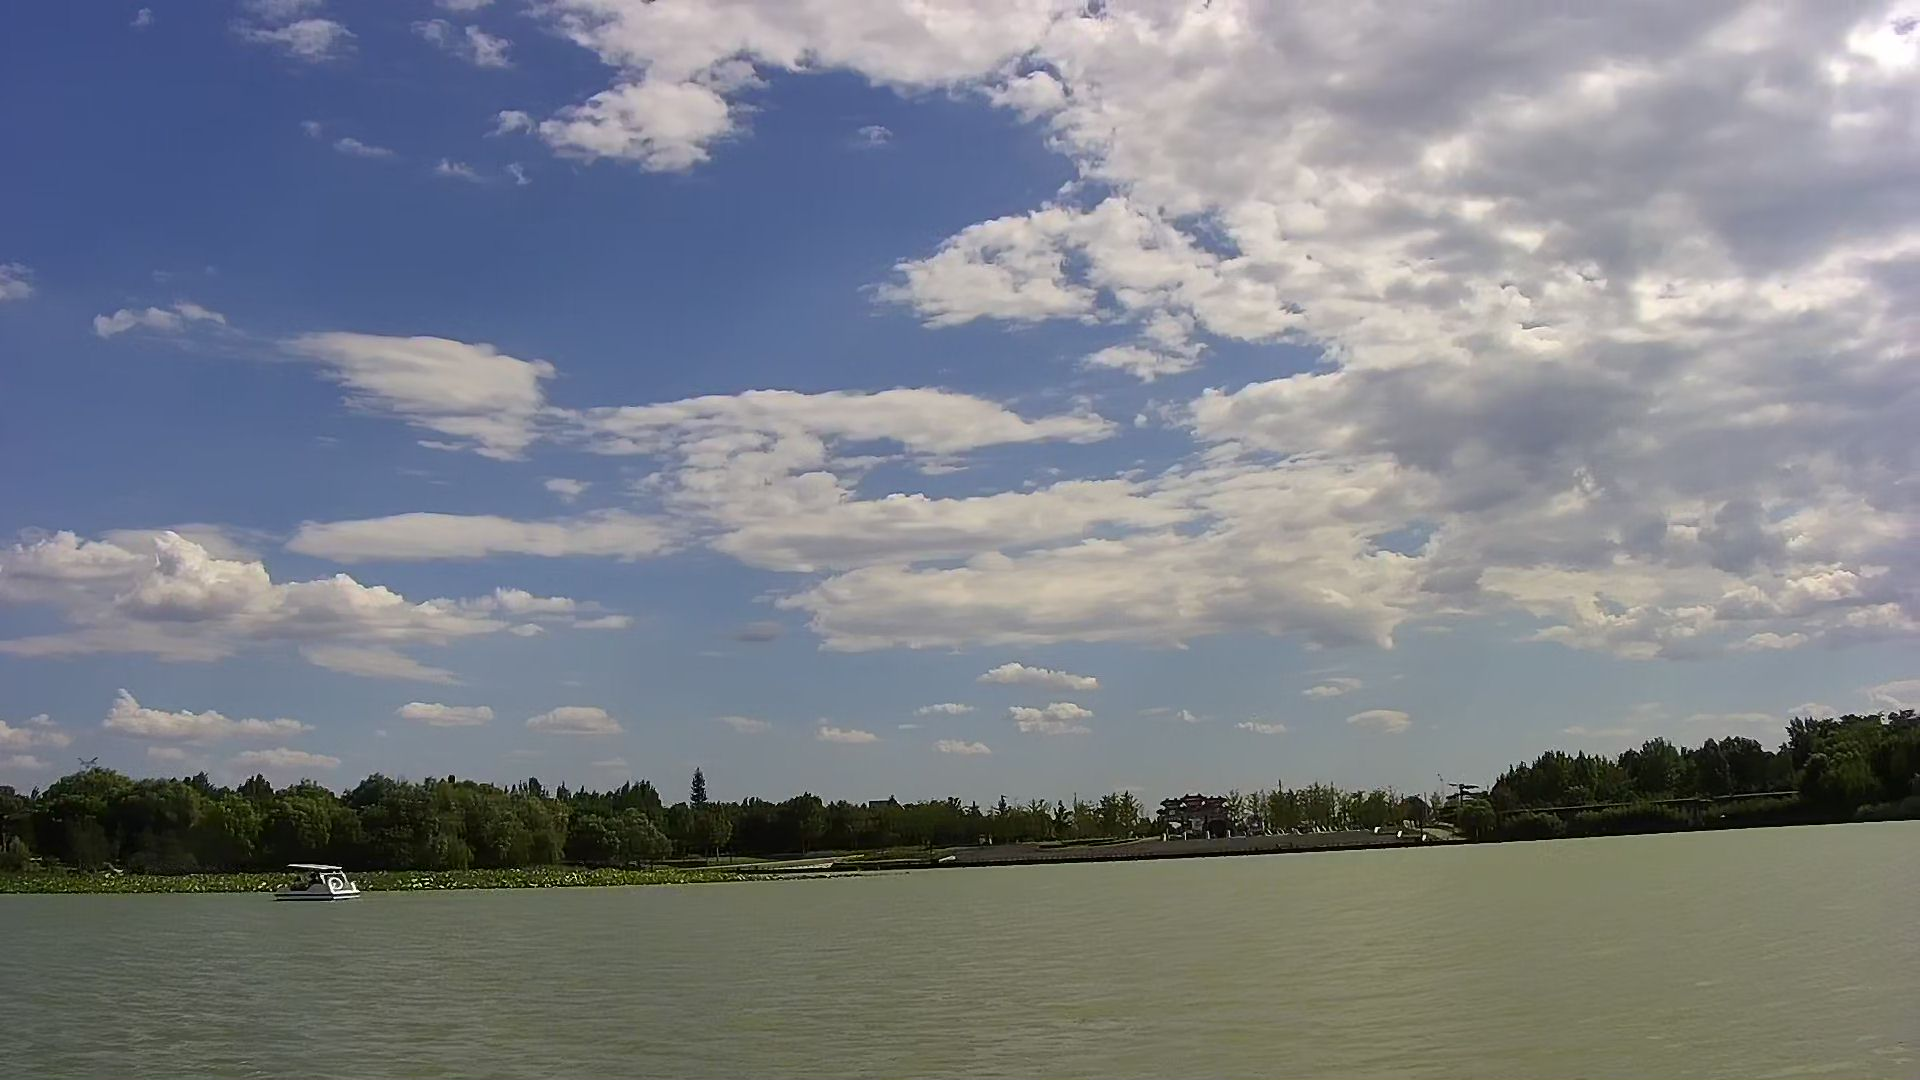boat: (266, 858, 363, 905)
